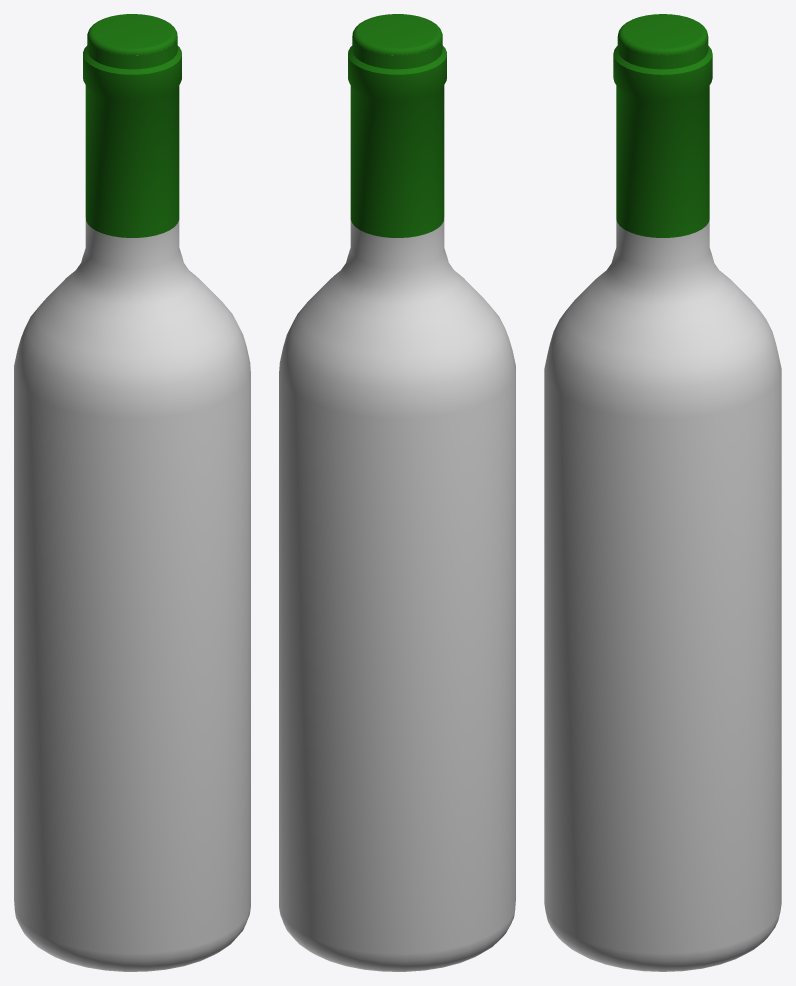
Rendered from vino.fbx.
3 renders of one model, left to right at view 1: azimuth 30°, elevation 25°; view 2: azimuth 150°, elevation 25°; view 3: azimuth 270°, elevation 25°, orthographic.
Parts seen in each view (by area): view 1: Cylinder; view 2: Cylinder; view 3: Cylinder.
Boxes of the visible parts, x1,y1,x2,y2 form: Cylinder: (14,14,250,971); Cylinder: (279,14,515,971); Cylinder: (544,14,781,971).
Bounding box in the file's own units: 99.54 × 417 × 99.54.
